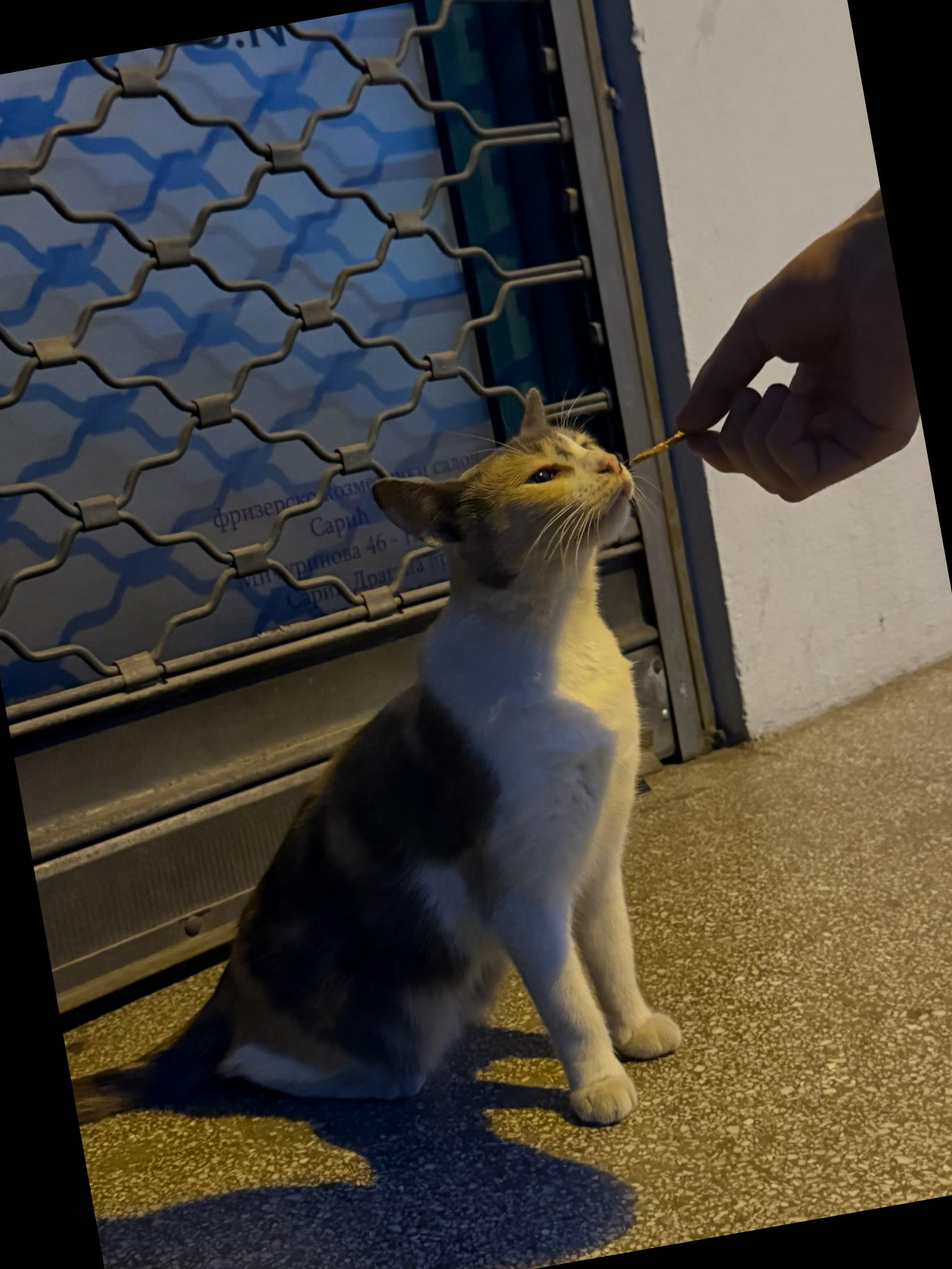macka: (0, 372, 745, 1186)
